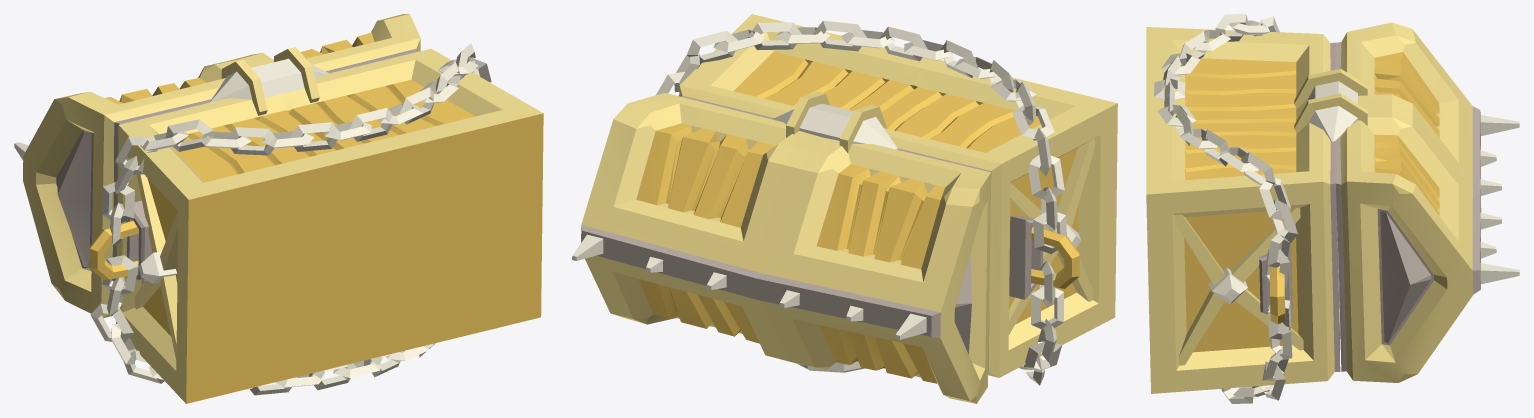
The model's file is NewLegendaryChest.fbx.
3 views of the same model, side by side, from view 1: azimuth 30°, elevation 25°; view 2: azimuth 150°, elevation 25°; view 3: azimuth 270°, elevation 25° (orthographic). The views are drawn at different scales.
Parts seen in each view (by area): view 1: Treasure_Chest_4a, Opened_6; view 2: Opened_6, Treasure_Chest_4a; view 3: Treasure_Chest_4a, Opened_6.
Boxes of the visible parts, x1,y1,x2,y2 form: Treasure_Chest_4a: (90, 43, 543, 403); Opened_6: (14, 14, 420, 317); Opened_6: (572, 93, 990, 403); Treasure_Chest_4a: (656, 14, 1117, 385); Treasure_Chest_4a: (1146, 14, 1367, 403); Opened_6: (1335, 22, 1519, 382).
Bounding box in the file's own units: 107 × 68.76 × 85.96.
